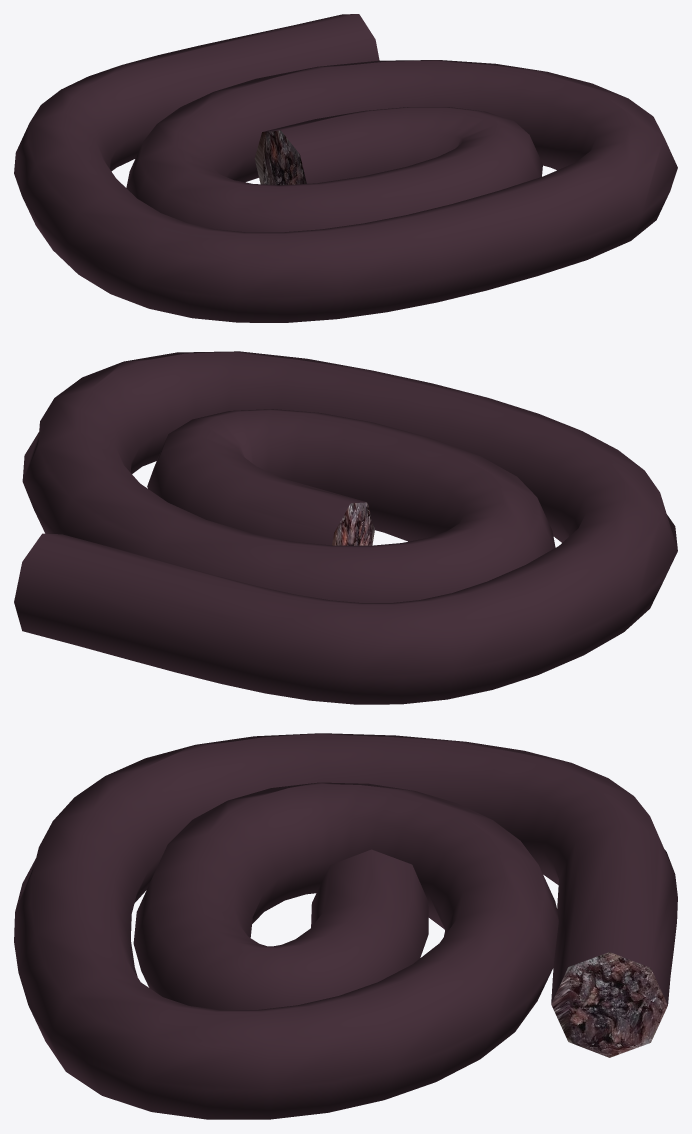
File: Sundae_Circle.fbx
3 renders of one model, top to bottom at view 1: azimuth 30°, elevation 25°; view 2: azimuth 150°, elevation 25°; view 3: azimuth 270°, elevation 25°, orthographic. The views are drawn at different scales.
Visible parts, largest first — view 1: Sundae; view 2: Sundae; view 3: Sundae.
Boxes of the visible parts, bbox=[...] form: Sundae: bbox=[14, 14, 677, 322]; Sundae: bbox=[14, 351, 677, 704]; Sundae: bbox=[14, 733, 677, 1119].
Size of the model in its own units: 18.6 by 2.89 by 15.9.
Materials: 2 (1 with a texture image).
